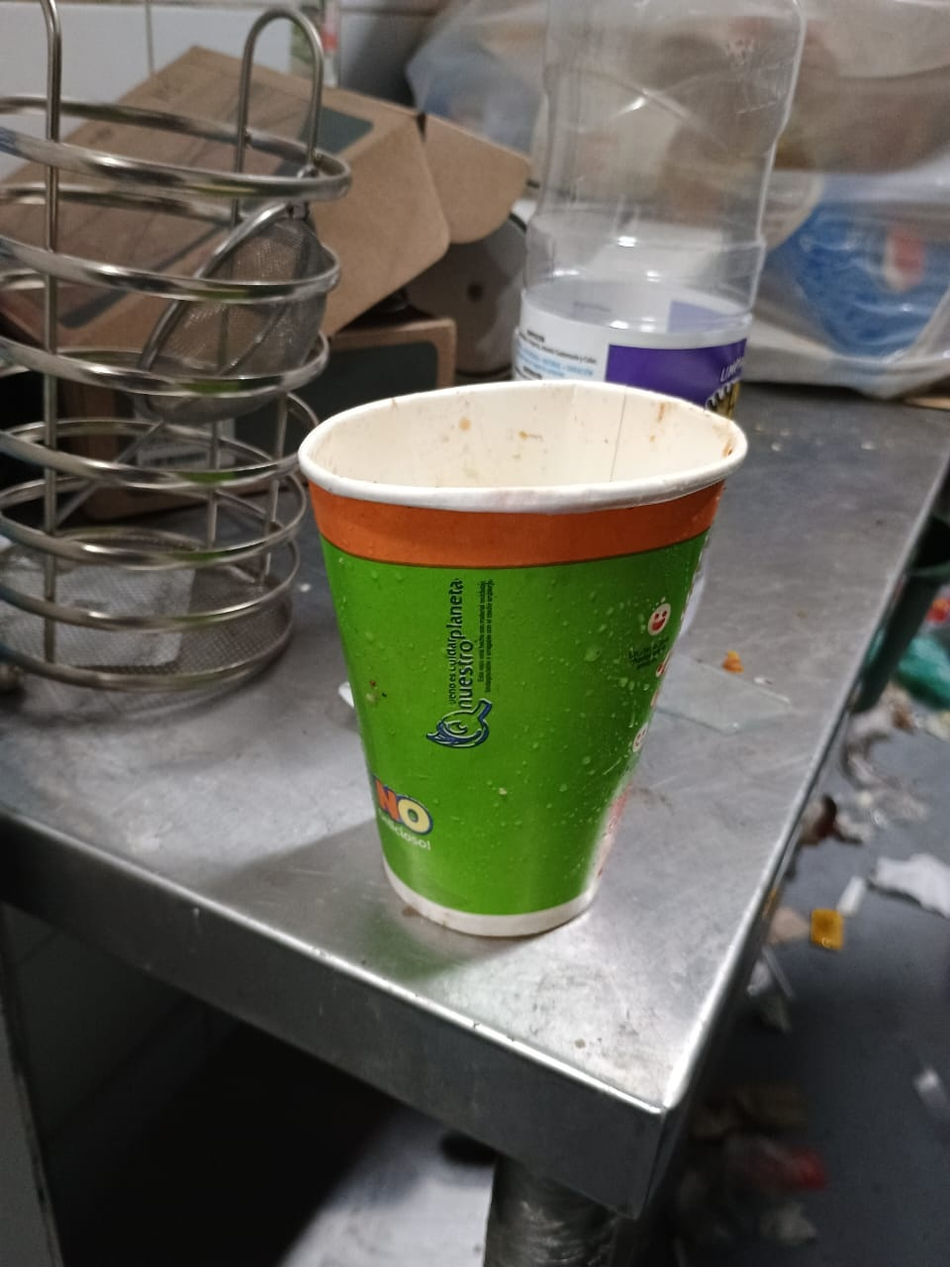Carton: (297, 380, 749, 942)
